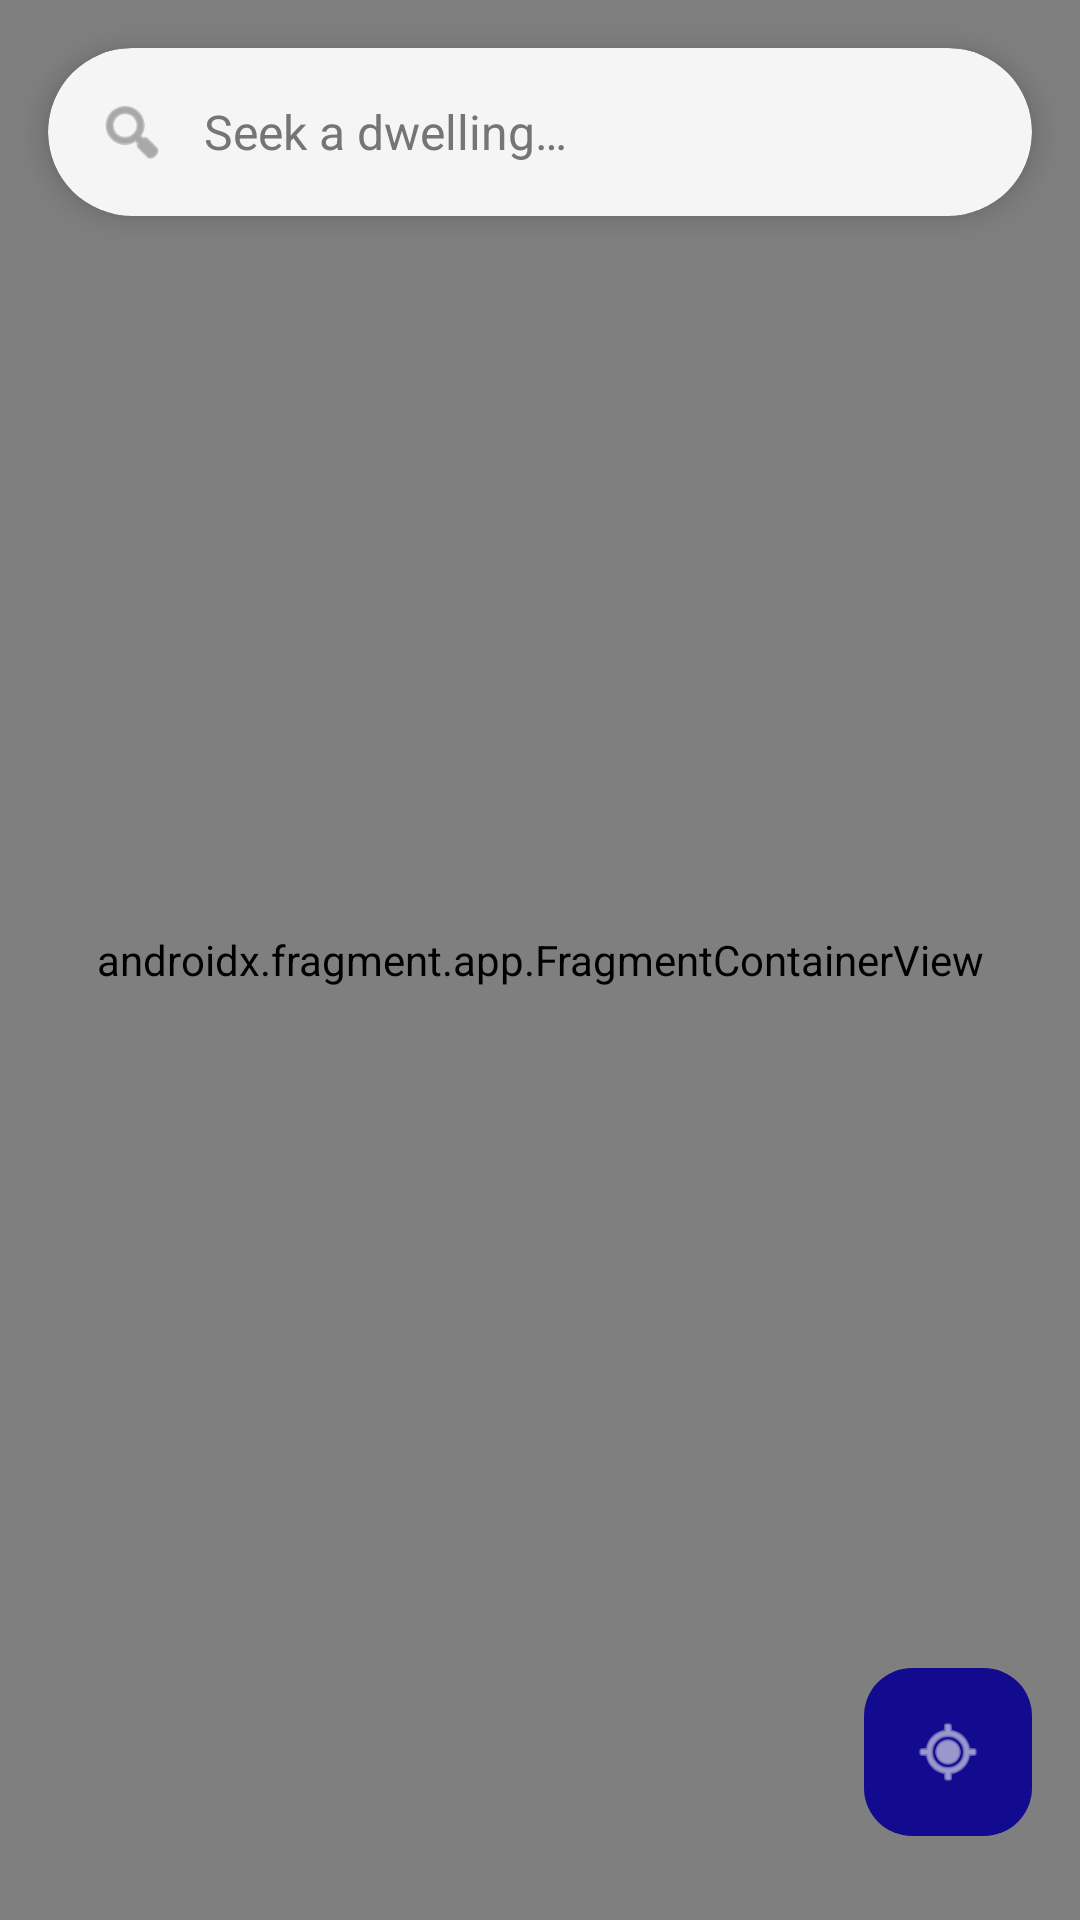

Named icons in this screenshot (1080x1920) and their centers, [x,y]:
My current whereabouts: [948,1752]
search: [132,132]
